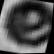correct: (0, 0, 54, 51)
